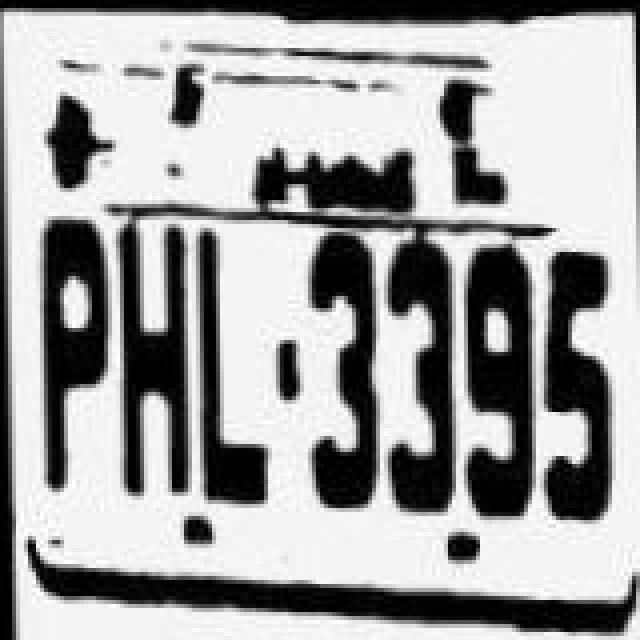3: (298, 230, 378, 514), (378, 238, 458, 518)
5: (540, 248, 620, 524)
9: (460, 242, 540, 530)
H: (110, 220, 198, 500)
L: (186, 222, 266, 506)
P: (32, 216, 116, 496)
